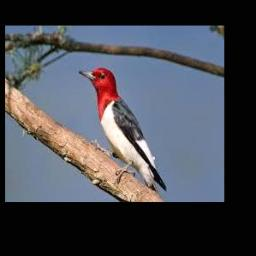Woodpecker: (79, 67, 167, 197)
